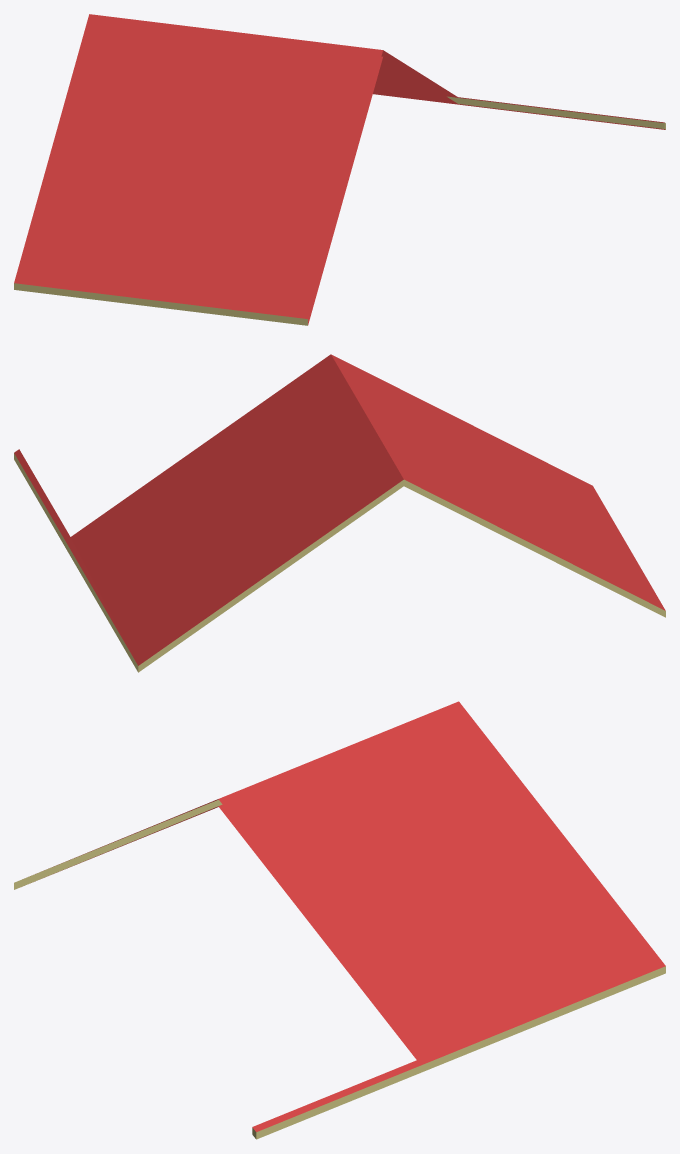
3 views of the same model, one above another, from view 1: azimuth 30°, elevation 25°; view 2: azimuth 150°, elevation 25°; view 3: azimuth 270°, elevation 25° (orthographic). The views are drawn at different scales.
Size of the model in its own units: 10.17 by 8.07 by 2.47.
